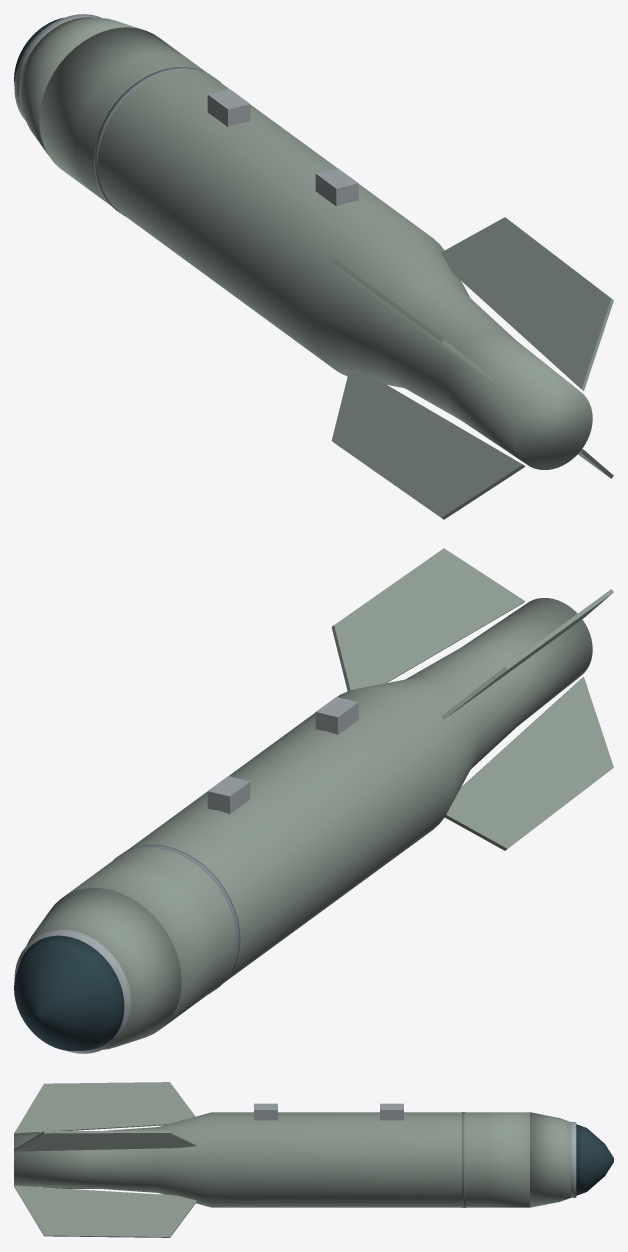
The model's file is kab500kr.glb.
The picture shows the model from 3 angles, top to bottom: view 1: azimuth 30°, elevation 25°; view 2: azimuth 150°, elevation 25°; view 3: azimuth 270°, elevation 25°; orthographic projection. The views are drawn at different scales.
Parts seen in each view (by area): view 1: static.Exterior sage, static.Exterior dull metal, static.Restrained joints; view 2: static.Exterior sage, static.Opaque dark optical window, static.Exterior dull metal, static.Restrained joints; view 3: static.Exterior sage, static.Opaque dark optical window, static.Exterior dull metal, static.Restrained joints.
Boxes of the visible parts, x1,y1,x2,y2 form: static.Exterior sage: [19, 17, 613, 519]; static.Exterior dull metal: [14, 14, 358, 206]; static.Restrained joints: [94, 67, 220, 216]; static.Exterior sage: [26, 548, 613, 1049]; static.Opaque dark optical window: [14, 935, 124, 1050]; static.Exterior dull metal: [14, 697, 358, 1053]; static.Restrained joints: [113, 844, 240, 993]; static.Exterior sage: [14, 1082, 570, 1237]; static.Opaque dark optical window: [576, 1124, 613, 1195]; static.Exterior dull metal: [254, 1103, 576, 1197]; static.Restrained joints: [462, 1112, 465, 1207].
Size of the model in its own units: 0.5918 by 0.5918 by 3.
